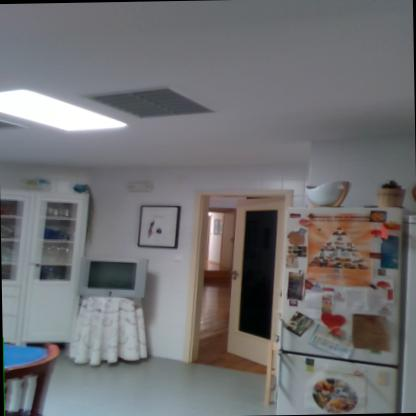semi: (189, 191, 288, 365)
